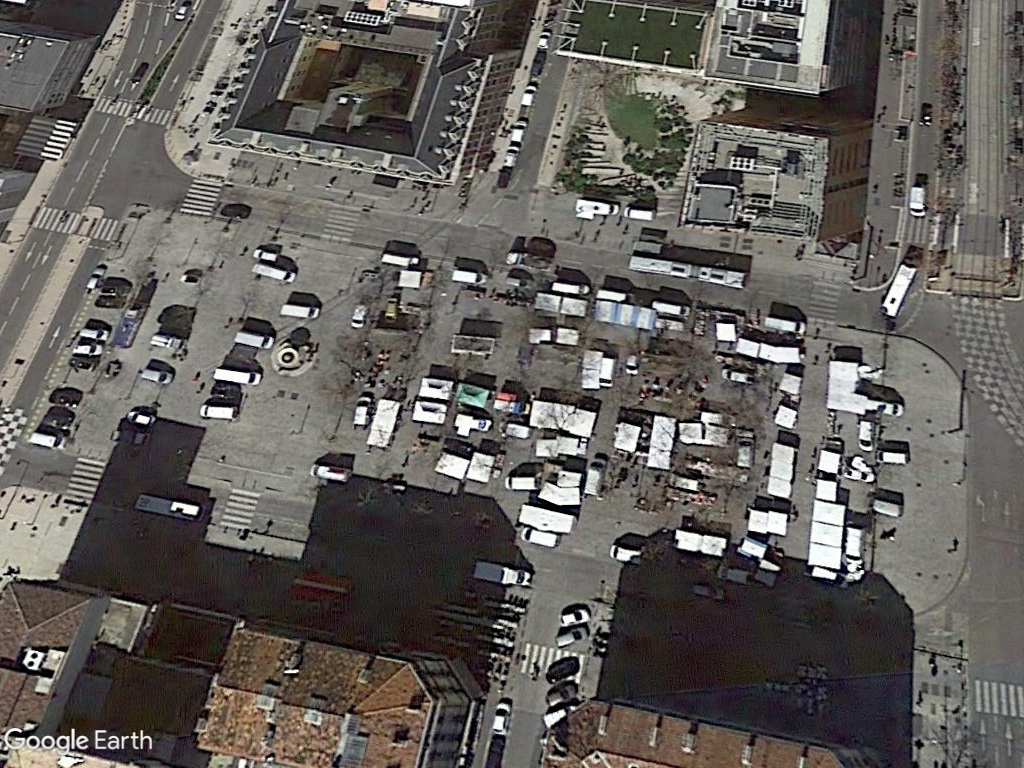car: (139, 363, 177, 389)
van: (250, 260, 302, 285), (307, 459, 353, 486), (211, 363, 264, 386), (572, 195, 623, 218), (231, 327, 279, 350), (276, 300, 324, 321), (200, 400, 242, 423), (449, 267, 493, 286), (907, 184, 929, 220)
